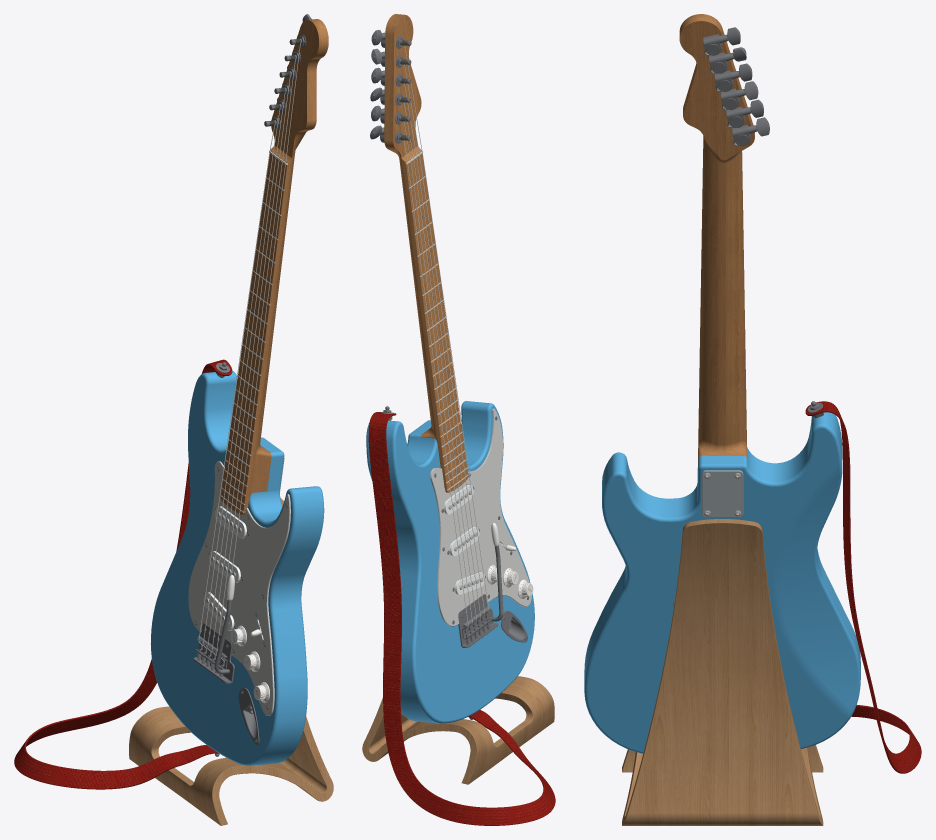
File: guitar.glb
The picture shows the model from 3 angles, left to right: view 1: azimuth 30°, elevation 25°; view 2: azimuth 150°, elevation 25°; view 3: azimuth 270°, elevation 25°; orthographic projection. The views are drawn at different scales.
Size of the model in its own units: 0.3363 by 1.01 by 0.3756.
4 materials, 4 textured.
